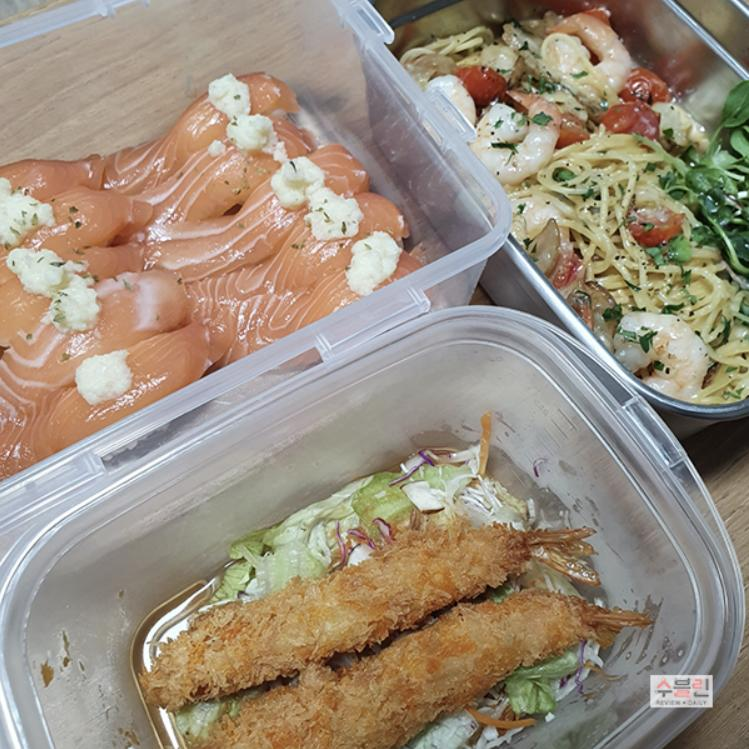Lunch Box: (0, 307, 743, 748), (0, 0, 510, 511), (375, 0, 748, 430)
